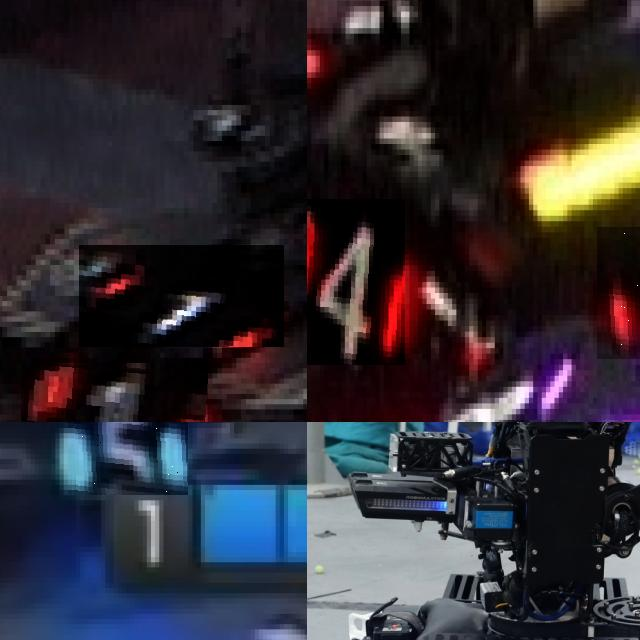B5: (67, 422, 188, 495)
R1: (79, 245, 284, 347), (21, 357, 207, 422)
R4: (307, 199, 405, 364), (597, 226, 640, 359)
